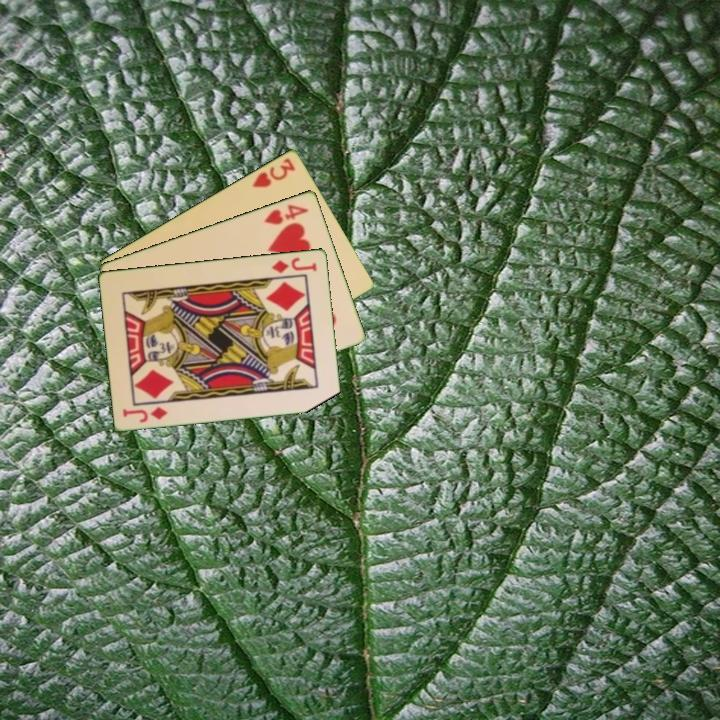3h: (249, 154, 298, 190)
4h: (260, 200, 312, 227)
Jd: (268, 254, 320, 276), (119, 403, 170, 425)
